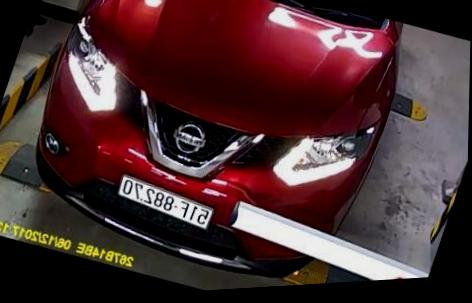License_Plate: (110, 168, 223, 237)
